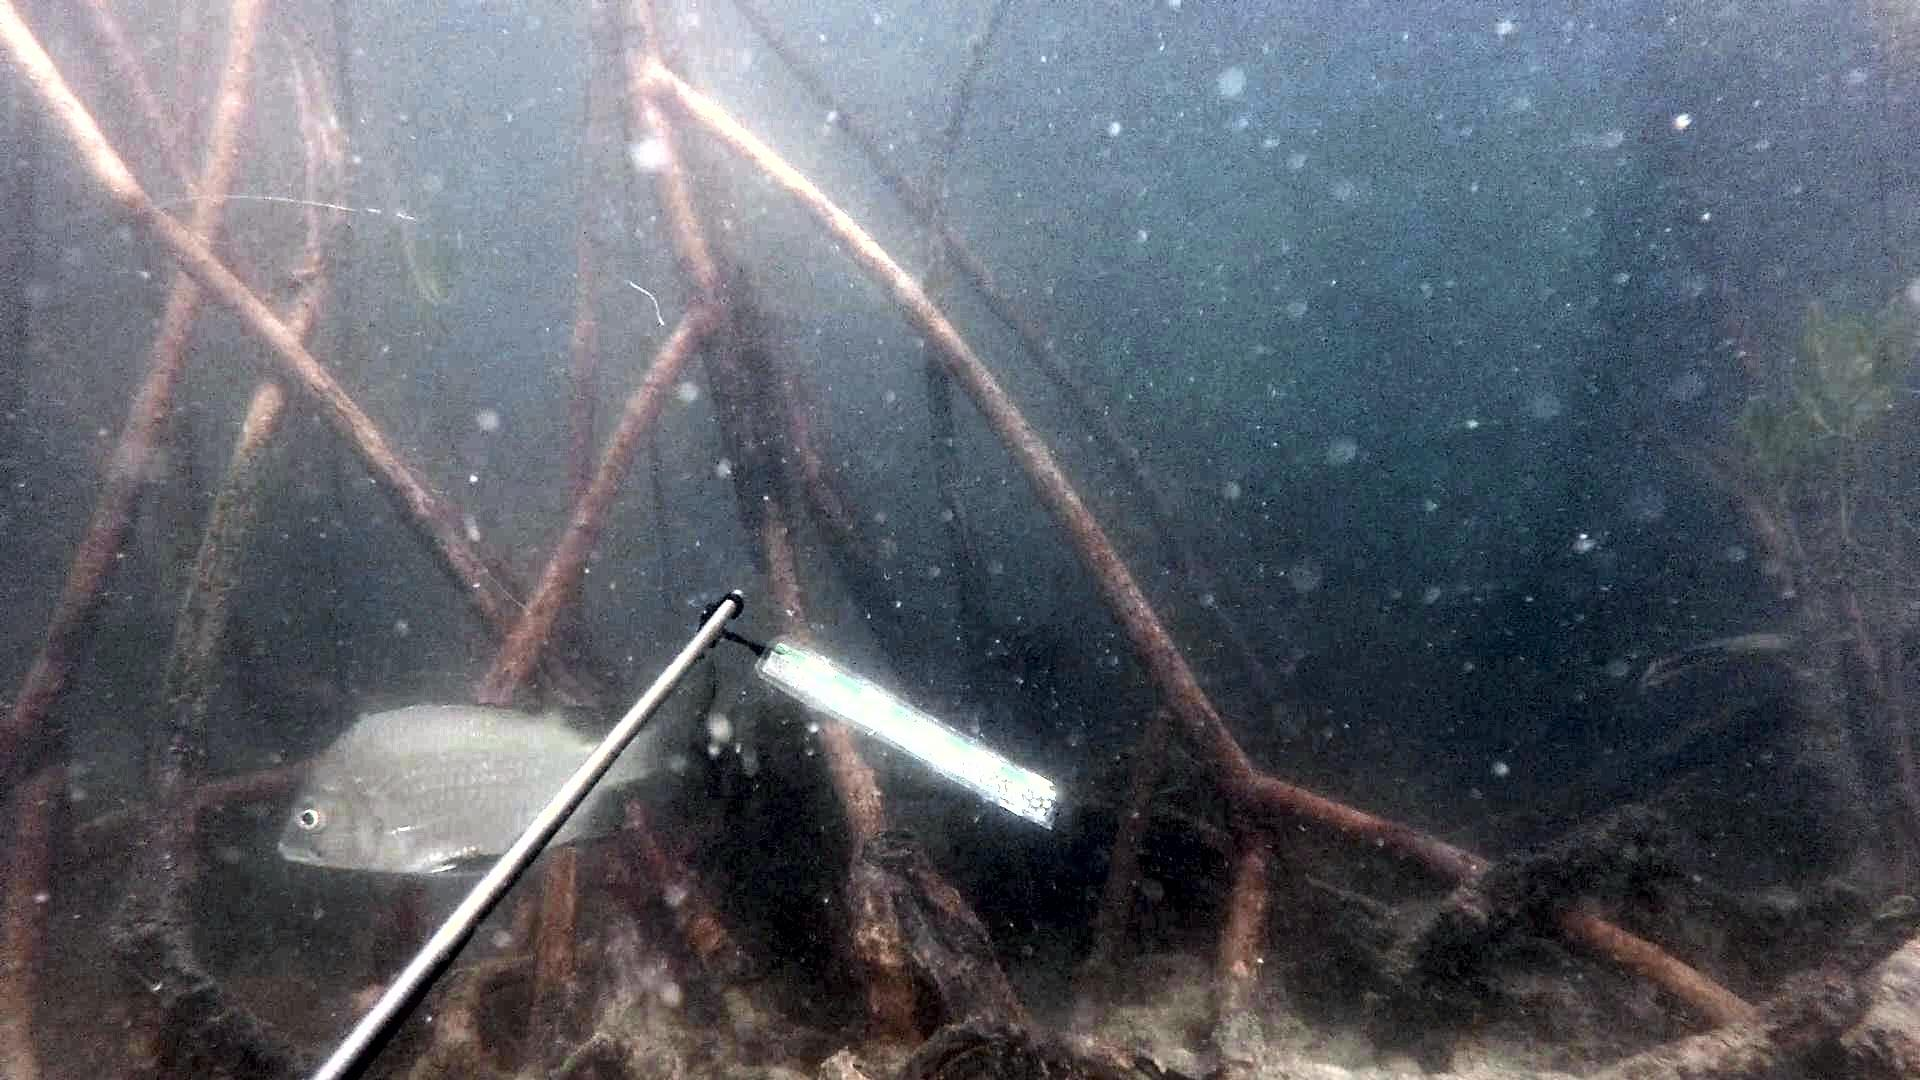acanthopagrus palmaris: (260, 654, 737, 897)
